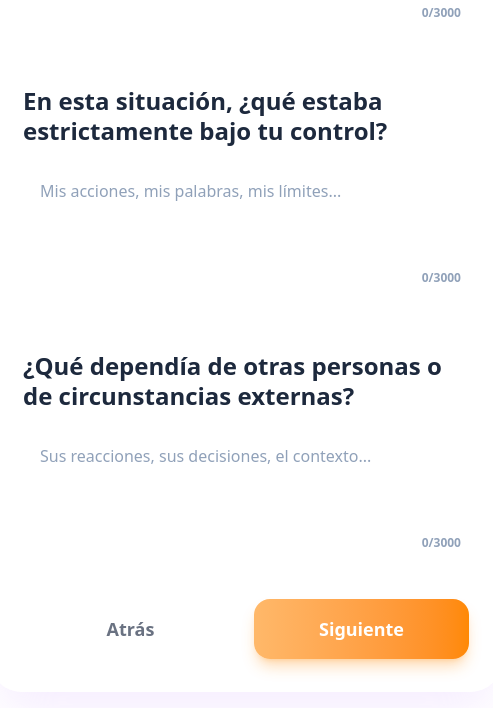
Test: NewSessionPage › returns to the previous step with rehydrated responses when resuming
(page scrolled)
Step 1. Click the button "Atrás" → (130,629), box [23,599,238,659]
(page scrolled)
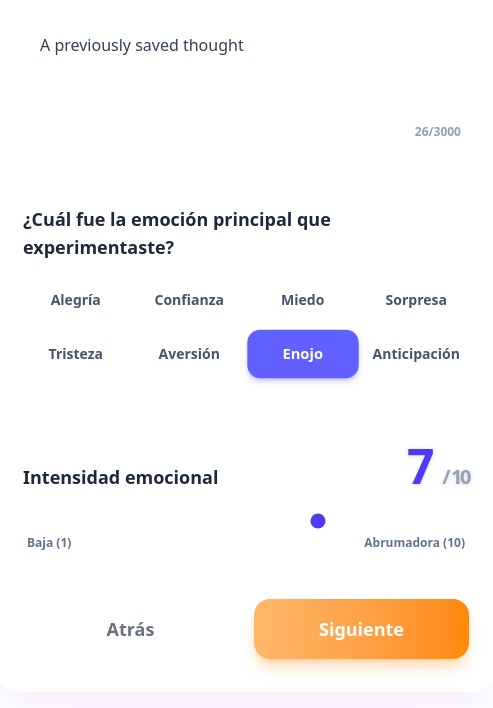
Expected: the text box with placeholder "Me dije a mí mismo que..." holds "A previously saved thought", [23,16,469,116]
Expected: the slider holds "7", [23,515,469,527]
